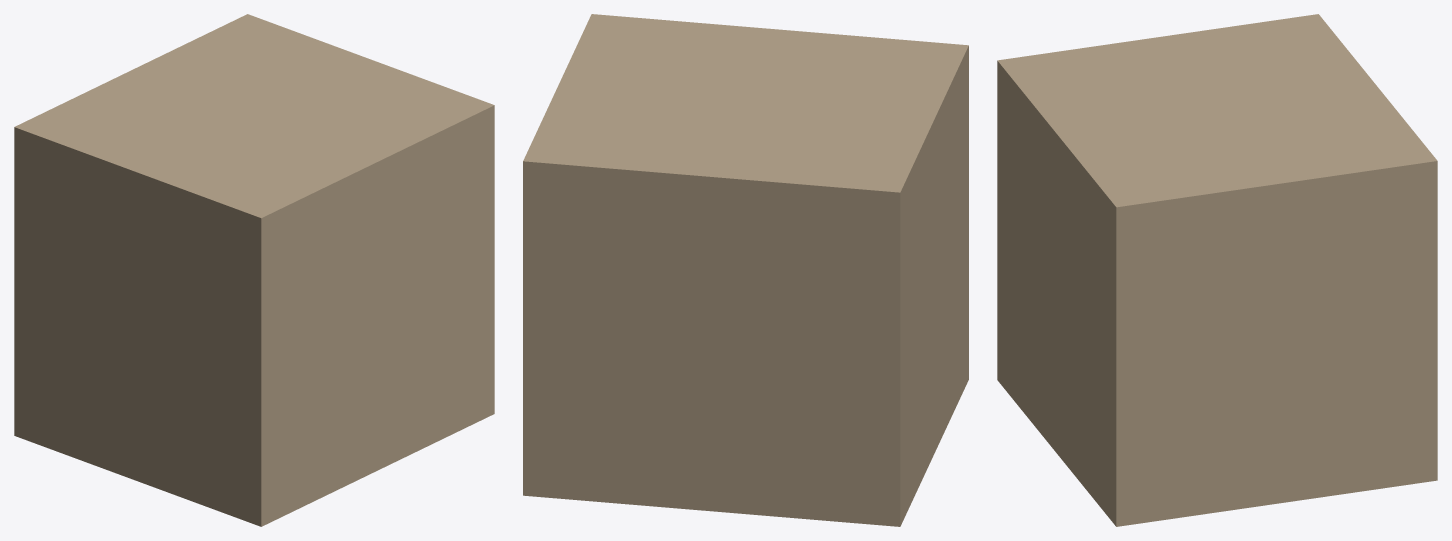
Rendered from bld_107639048.dae.
The picture shows the model from 3 angles, left to right: view 1: azimuth 30°, elevation 25°; view 2: azimuth 150°, elevation 25°; view 3: azimuth 270°, elevation 25°; orthographic projection. The views are drawn at different scales.
Parts seen in each view (by area): view 1: bld_107639048; view 2: bld_107639048; view 3: bld_107639048.
Part boxes in pixels (left/top/right/bottom): bld_107639048: left=14, top=14, right=494, bottom=526; bld_107639048: left=523, top=14, right=968, bottom=526; bld_107639048: left=997, top=14, right=1437, bottom=526.
Bounding box in the file's own units: 10.38 × 9.99 × 8.
